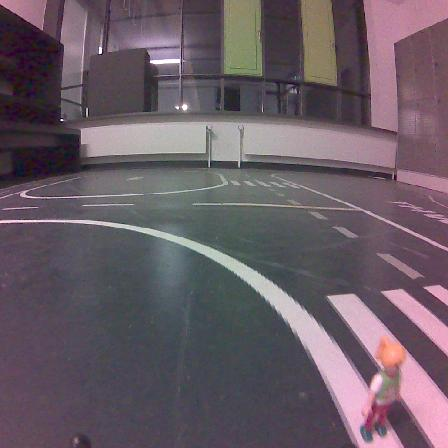CHILD: (361, 336, 405, 441)
